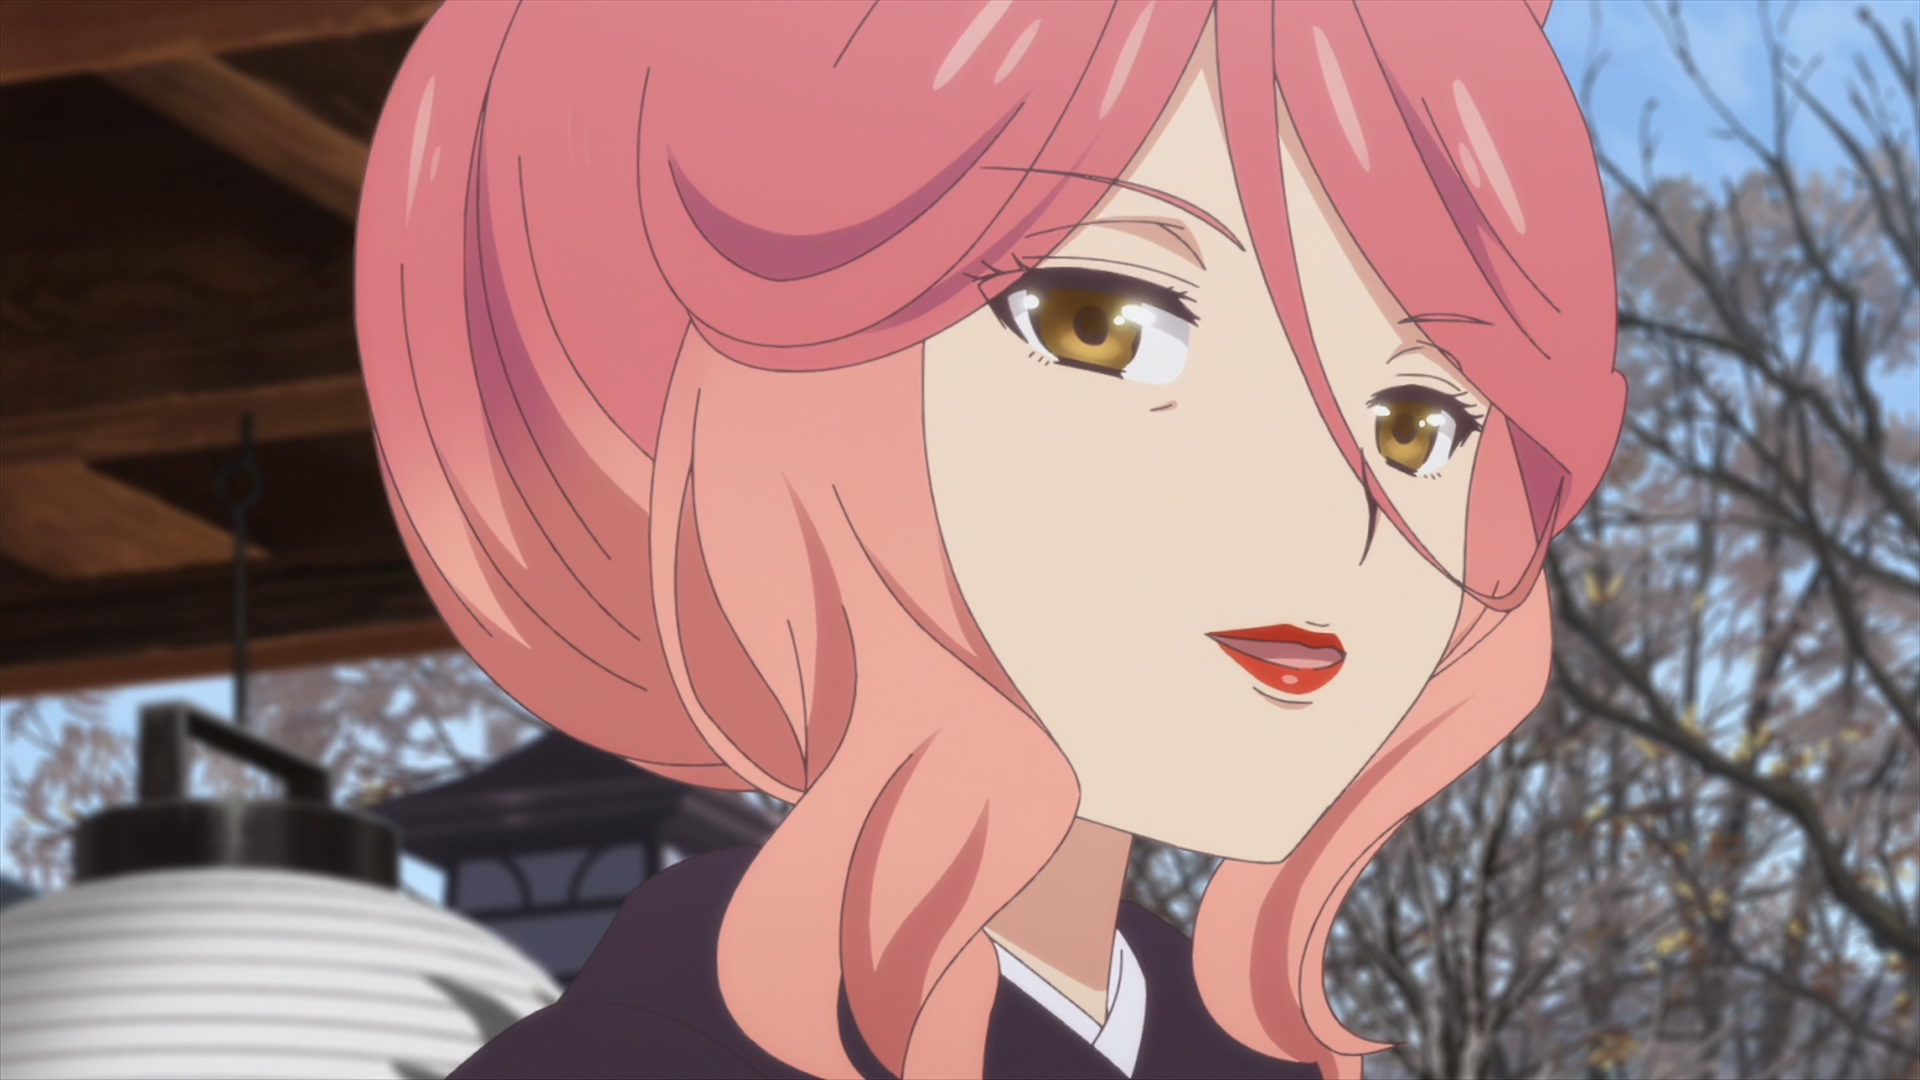椿: (355, 1, 1627, 1080)
